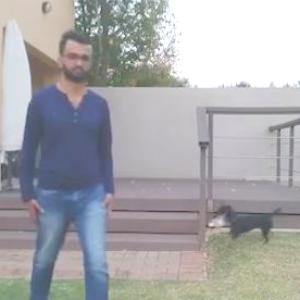follow: (25, 27, 132, 299)
